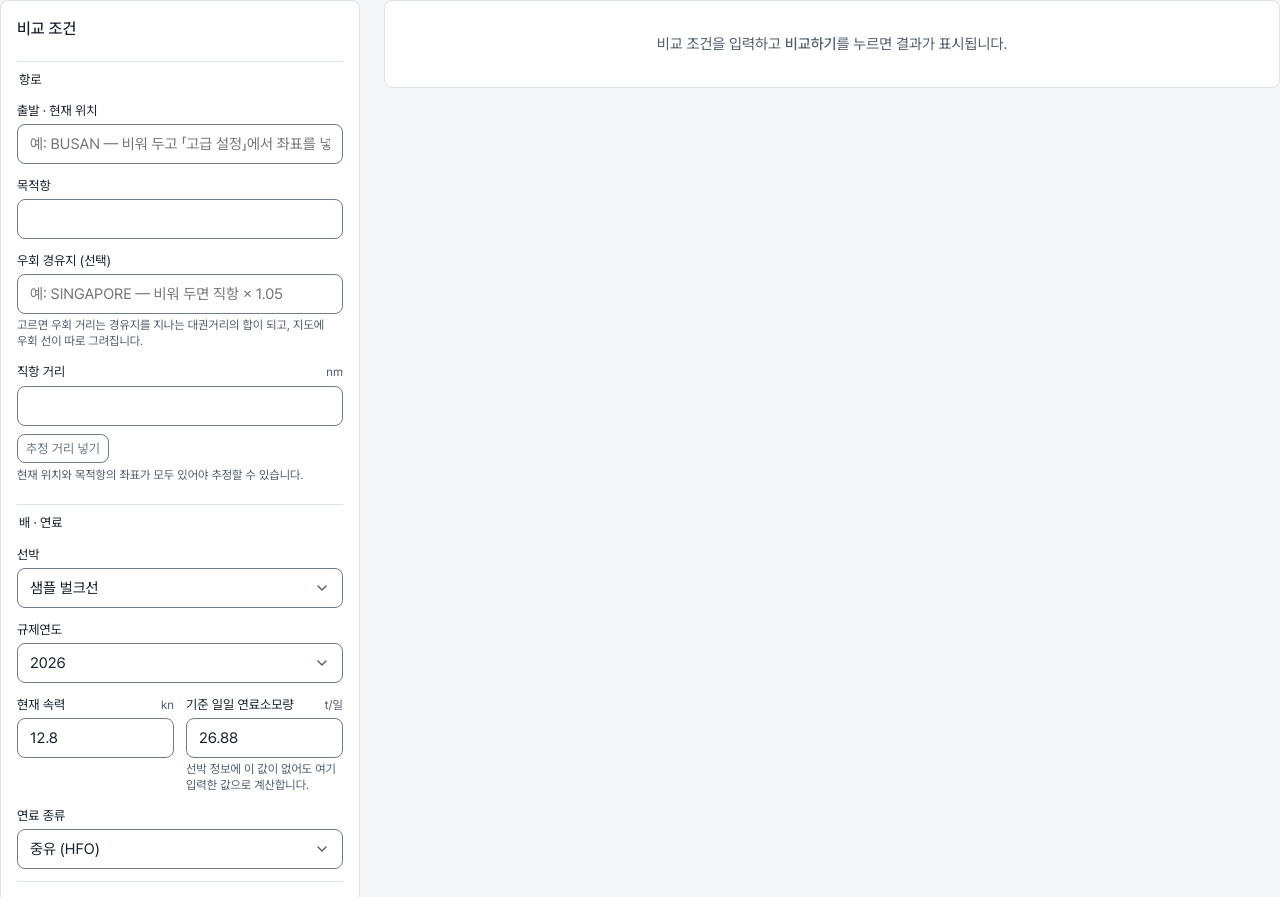
Test: 서버 경고가 화면에 뜬다 (#821) › 기상 보정을 하지 않았으면 시각 줄 없이 「보정 없이 계산했습니다」가 한 번 나온다 (#2135)
Check: the dropdown labelled "규제연도" is shown, box [17, 643, 343, 683]
In the field labelled "직항 거리 nm": (180, 406) [17, 386, 343, 426], type "1000"
(page scrolled)
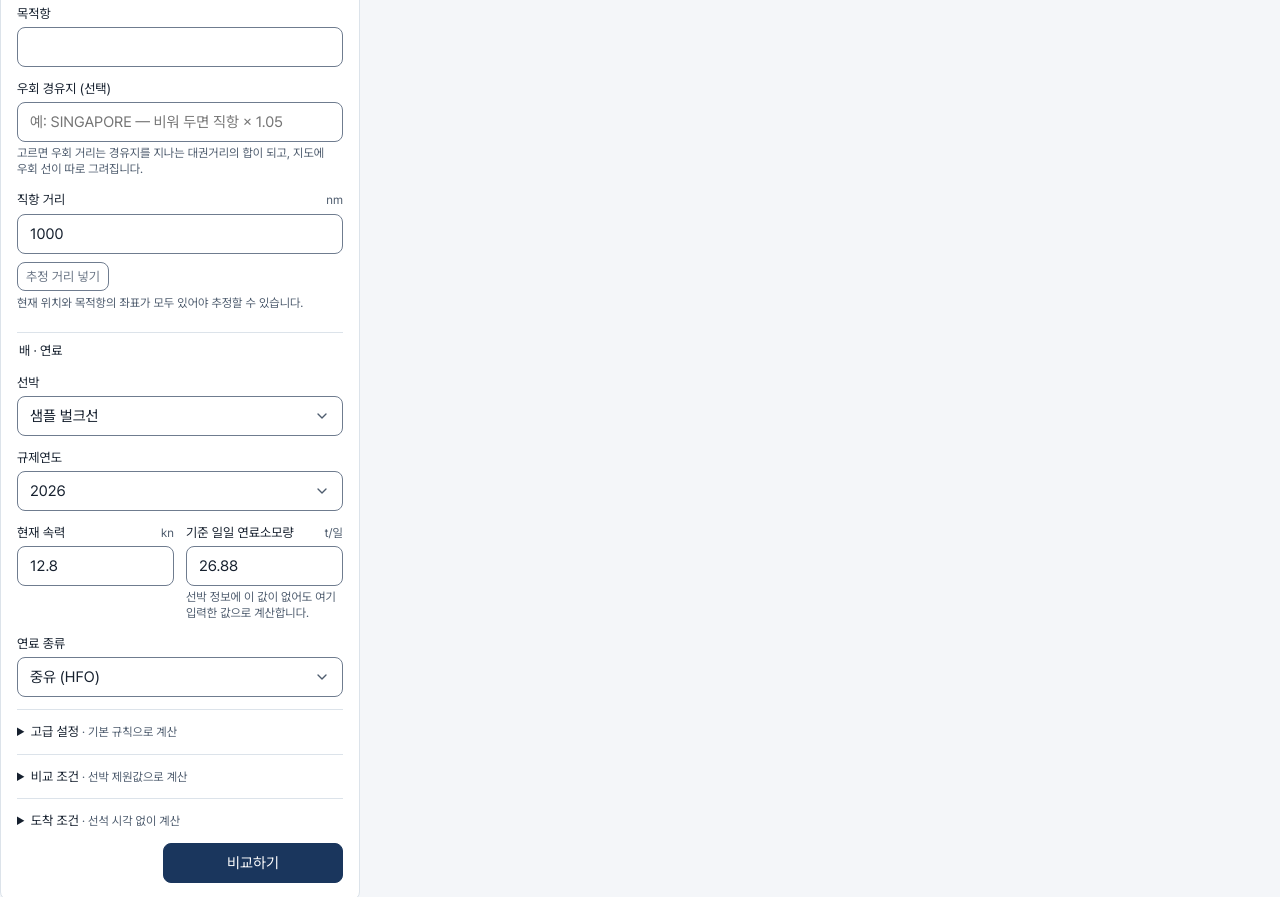
Click the button "비교하기": (253, 863) [163, 843, 343, 883]
(page scrolled)
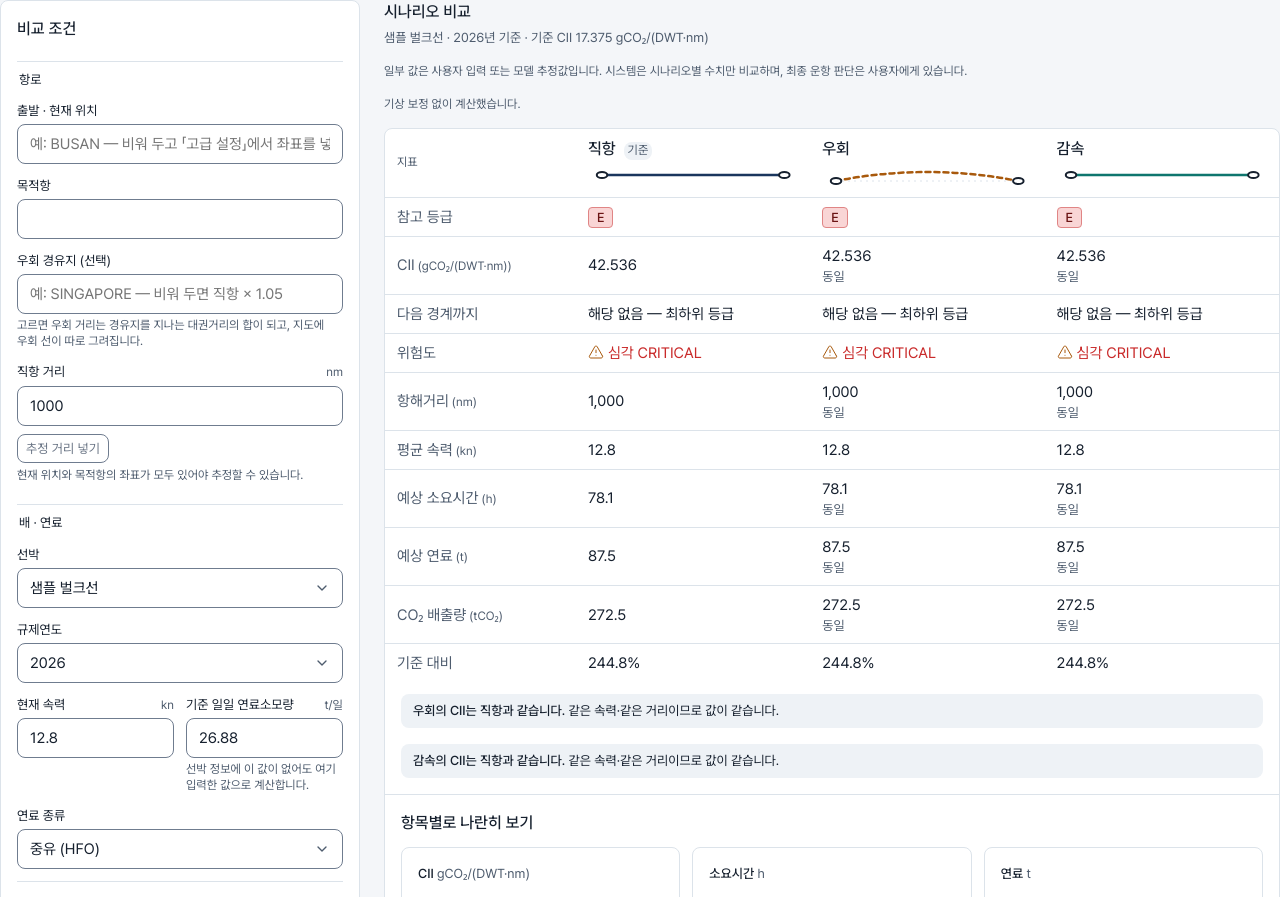
Check: the heading "시나리오 비교" is shown, box [384, 2, 471, 21]
Check: the text "기상 보정 없이 계산했습니다." is shown once, box [384, 97, 520, 111]
